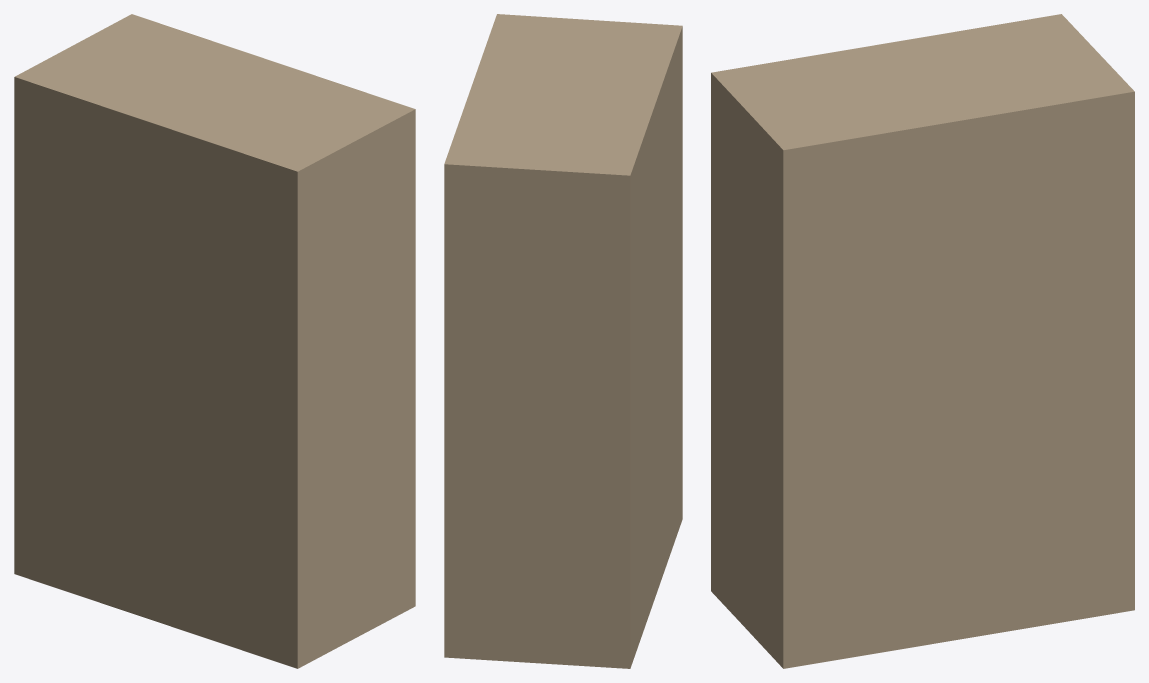
File: bld_107610492.dae
The picture shows the model from 3 angles, left to right: view 1: azimuth 30°, elevation 25°; view 2: azimuth 150°, elevation 25°; view 3: azimuth 270°, elevation 25°; orthographic projection. The views are drawn at different scales.
Visible parts, largest first — view 1: bld_107610492; view 2: bld_107610492; view 3: bld_107610492.
Part boxes in pixels (bbox=[...]): bld_107610492: bbox=[14, 14, 415, 668]; bld_107610492: bbox=[444, 14, 682, 668]; bld_107610492: bbox=[711, 14, 1134, 668].
Bounding box in the file's own units: 4.51 × 5.92 × 8.
